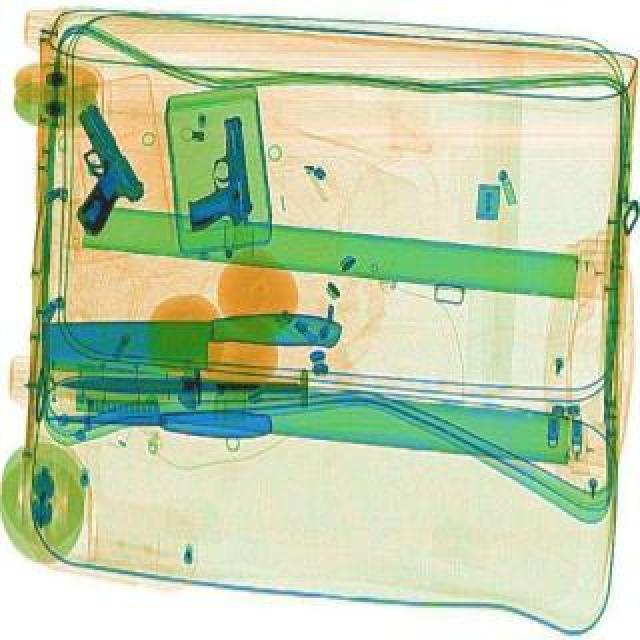gun: (26, 104, 158, 244), (178, 118, 254, 236)
knife: (40, 316, 340, 376), (44, 410, 272, 442), (60, 378, 300, 398)
